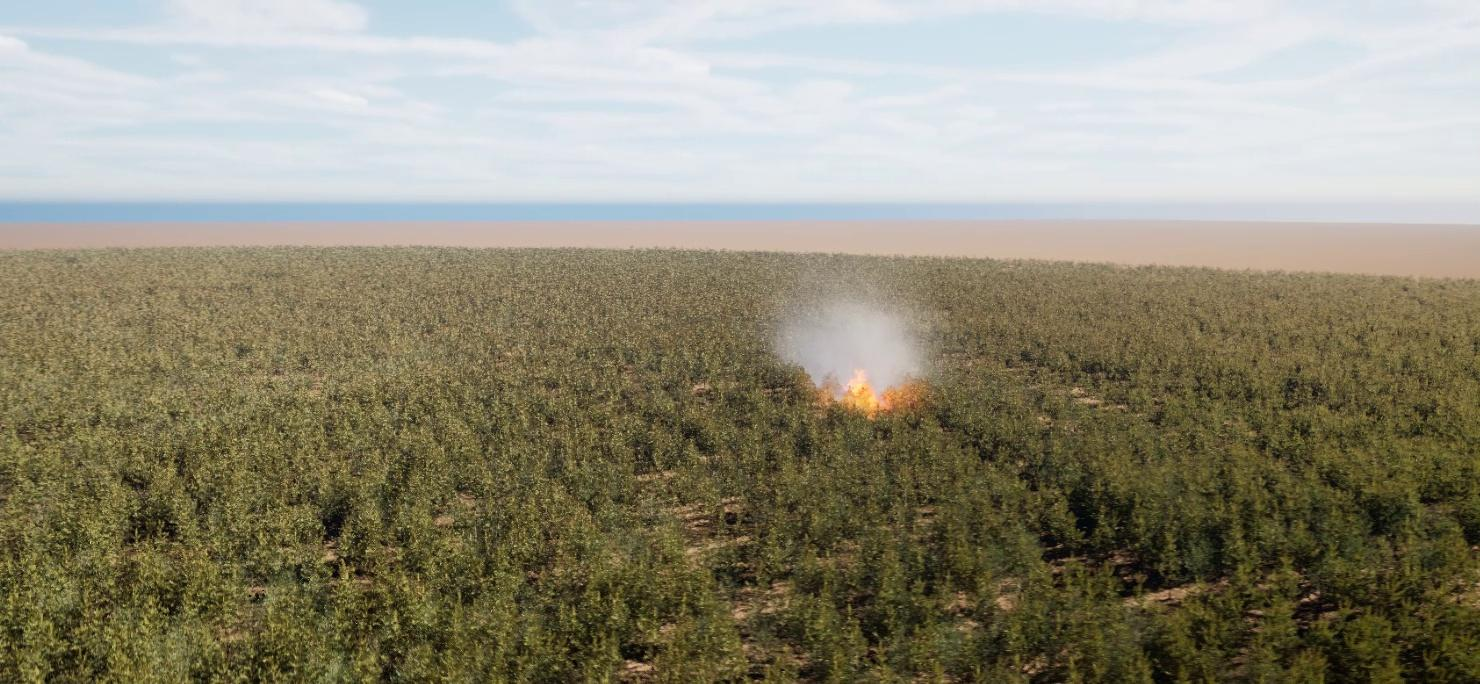fire: (831, 368, 915, 411)
smoke: (760, 279, 937, 400)
